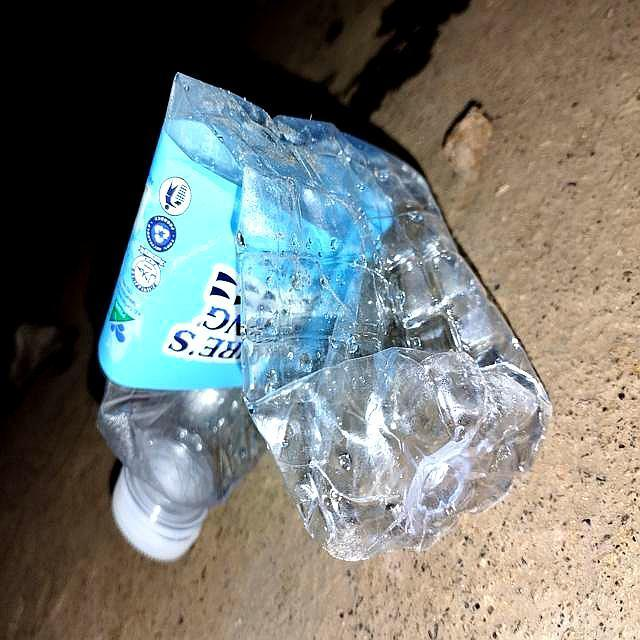Non-biodegradable: (97, 65, 553, 567)
